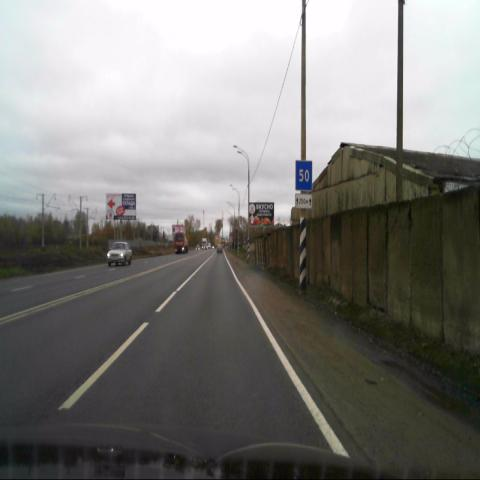6_2: (296, 158, 312, 190)
